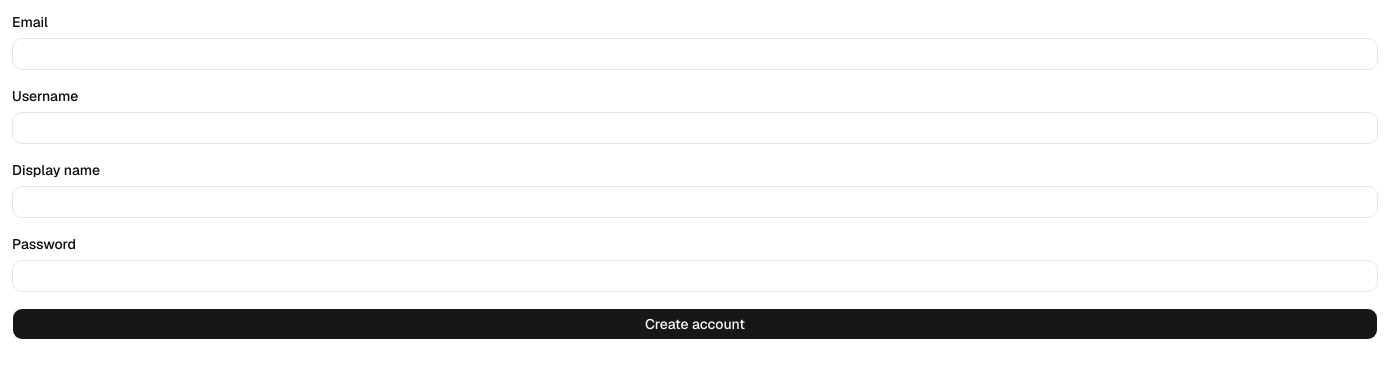
it: RegisterForm › shows a form-level error on failed registration
The image size is (1390, 392).
Type "a@b.com" into the field labelled "Email" at (695, 54), box [12,38,1378,70]
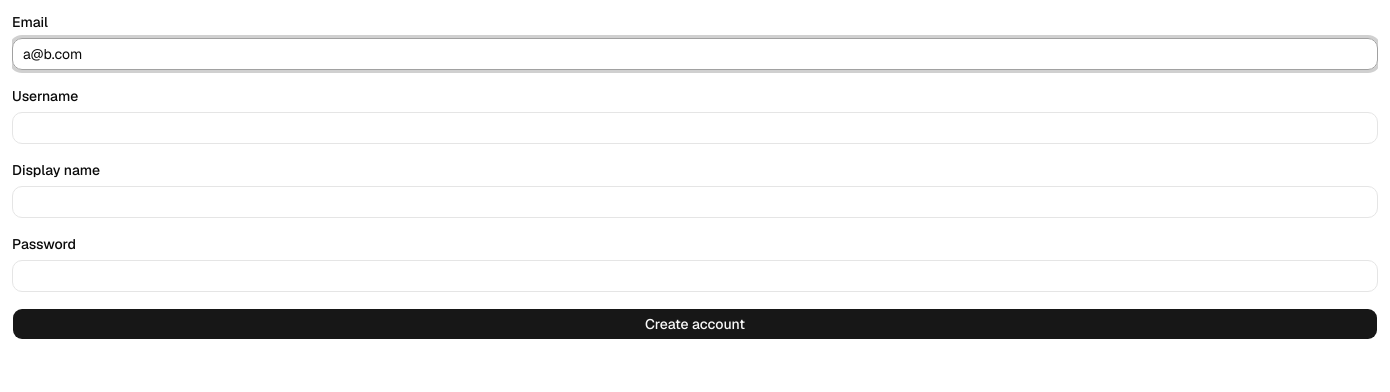
Type "alice" into the field labelled "Username" at (695, 128), box [12,112,1378,144]
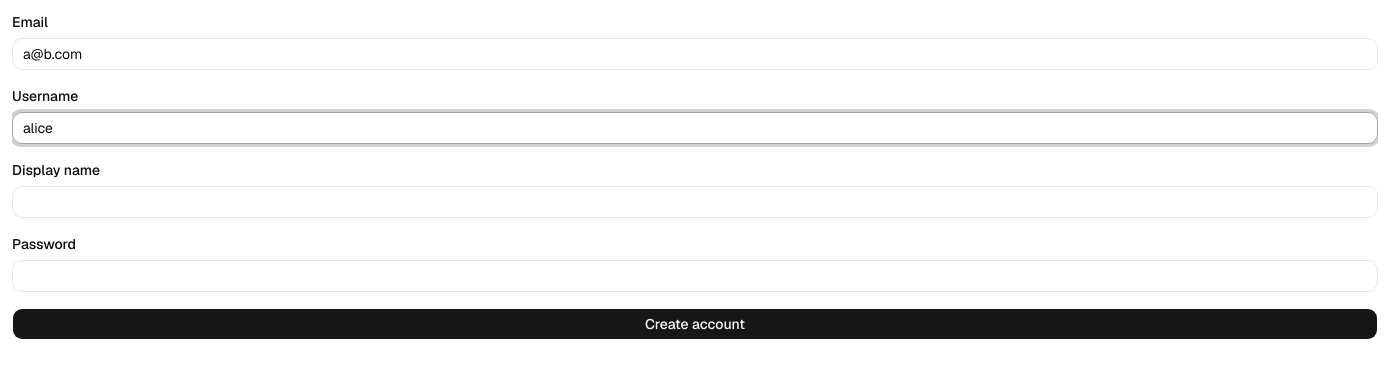
Type "Alice" into the field labelled "Display name" at (695, 202), box [12,186,1378,218]
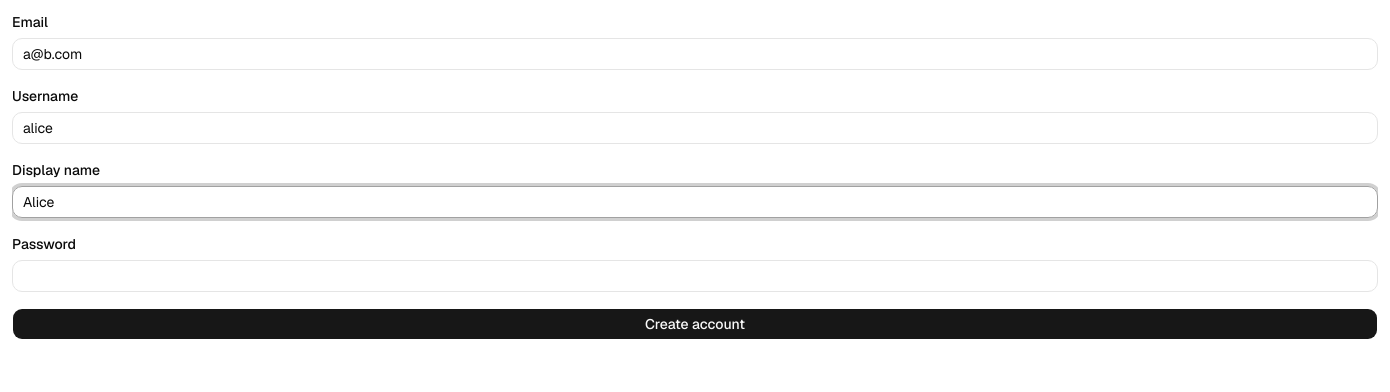
Type "password123" into the password field labelled "Password" at (695, 276), box [12,260,1378,292]
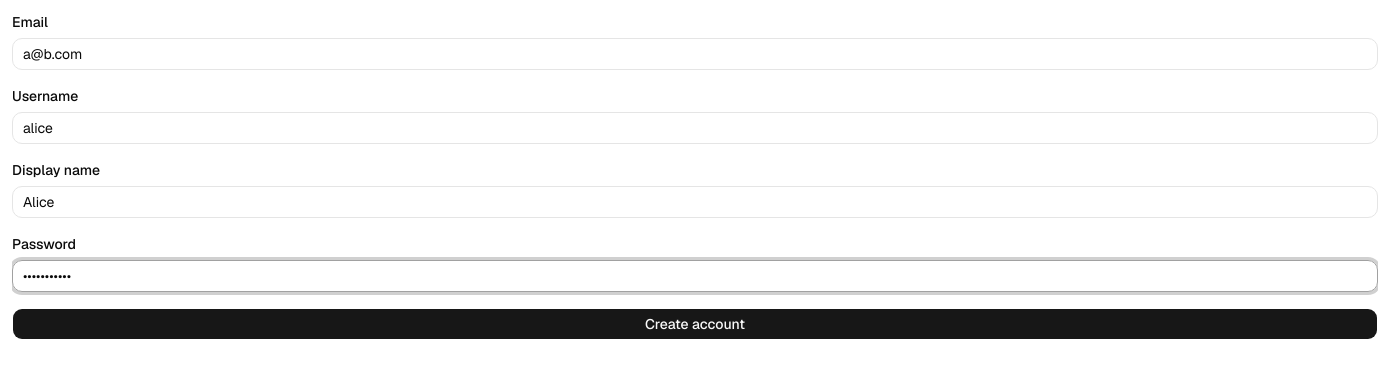
Click the button "Create account" at (695, 324), box [12,308,1378,340]
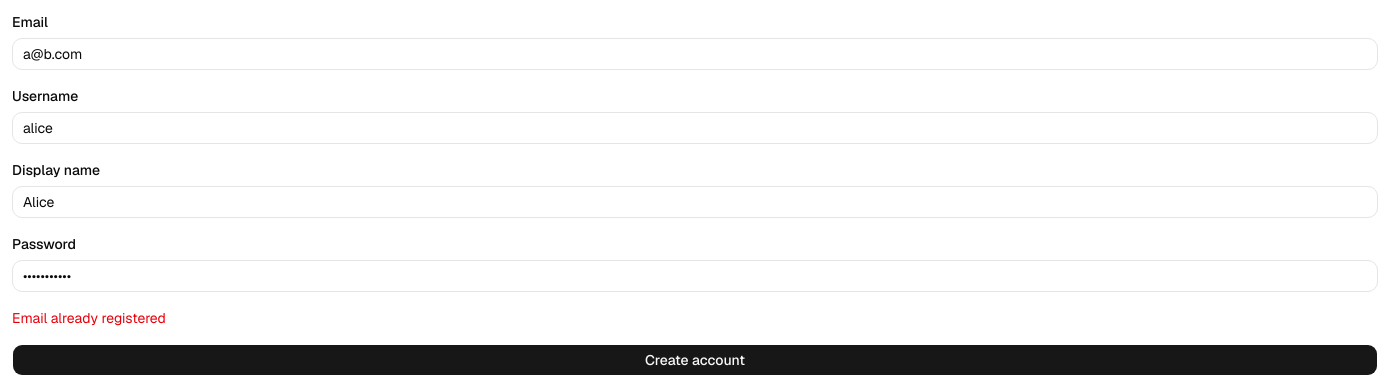
expect the text "Email already registered" is shown: met, box [12,309,166,327]
